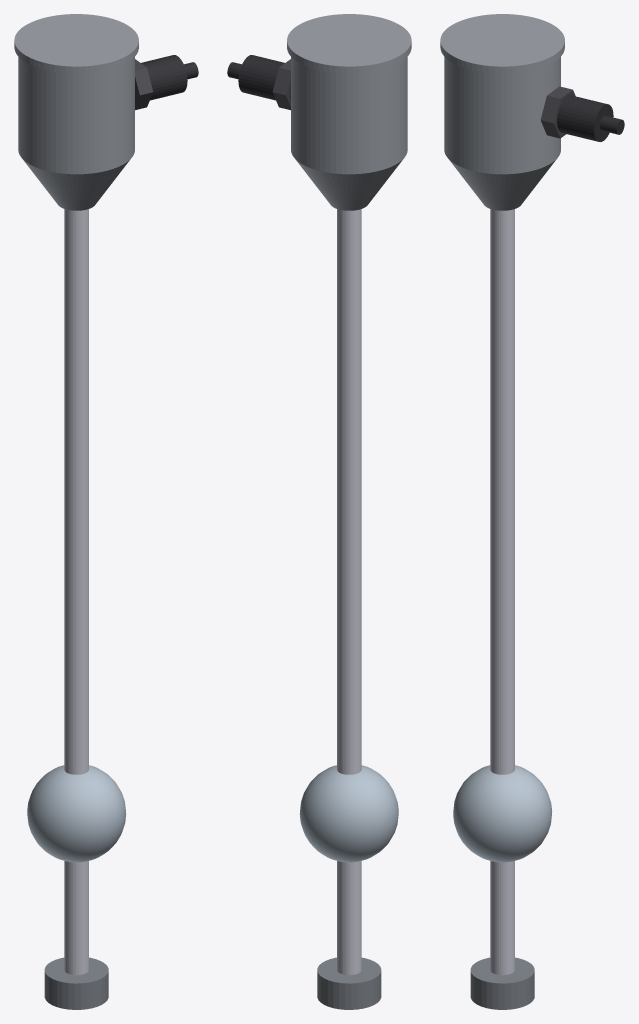
3 views of the same model, side by side, from view 1: azimuth 30°, elevation 25°; view 2: azimuth 150°, elevation 25°; view 3: azimuth 330°, elevation 25° (orthographic).
Visible parts, largest first — view 1: Stem, Enclosure, Float, Lid, Stopper, Cone, Gland, GlandNut; view 2: Stem, Enclosure, Float, Lid, Stopper, Cone, Gland, GlandNut; view 3: Stem, Enclosure, Float, Lid, Stopper, Cone, Gland, GlandNut.
Part boxes in pixels (left/top/right/bottom): Stem: left=64, top=209, right=88, bottom=975; Enclosure: left=18, top=57, right=134, bottom=174; Float: left=27, top=765, right=126, bottom=862; Lid: left=14, top=14, right=138, bottom=73; Stopper: left=44, top=957, right=108, bottom=1009; Cone: left=22, top=158, right=129, bottom=210; Gland: left=135, top=55, right=187, bottom=101; GlandNut: left=135, top=59, right=153, bottom=110; Stem: left=337, top=209, right=361, bottom=975; Enclosure: left=291, top=57, right=407, bottom=174; Float: left=299, top=765, right=398, bottom=862; Lid: left=287, top=14, right=411, bottom=73; Stopper: left=317, top=957, right=381, bottom=1009; Cone: left=296, top=158, right=403, bottom=210; Gland: left=238, top=55, right=290, bottom=101; GlandNut: left=272, top=59, right=290, bottom=110; Stem: left=490, top=209, right=514, bottom=975; Enclosure: left=444, top=57, right=560, bottom=174; Float: left=453, top=765, right=552, bottom=862; Lid: left=440, top=14, right=564, bottom=73; Stopper: left=470, top=957, right=534, bottom=1009; Cone: left=449, top=158, right=557, bottom=210; Gland: left=557, top=95, right=613, bottom=141; GlandNut: left=540, top=86, right=575, bottom=138.
Bounding box in the file's own units: 0.102 × 0.542 × 0.064.
